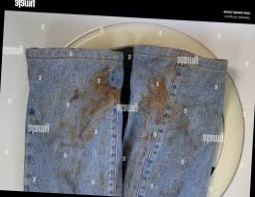earth: (88, 70, 120, 114), (143, 77, 173, 119)
